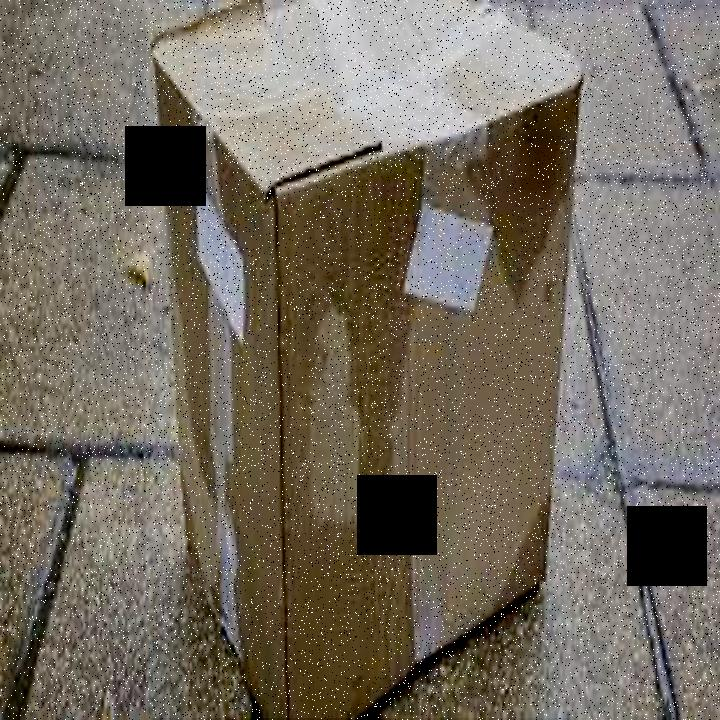box: (146, 3, 585, 718)
